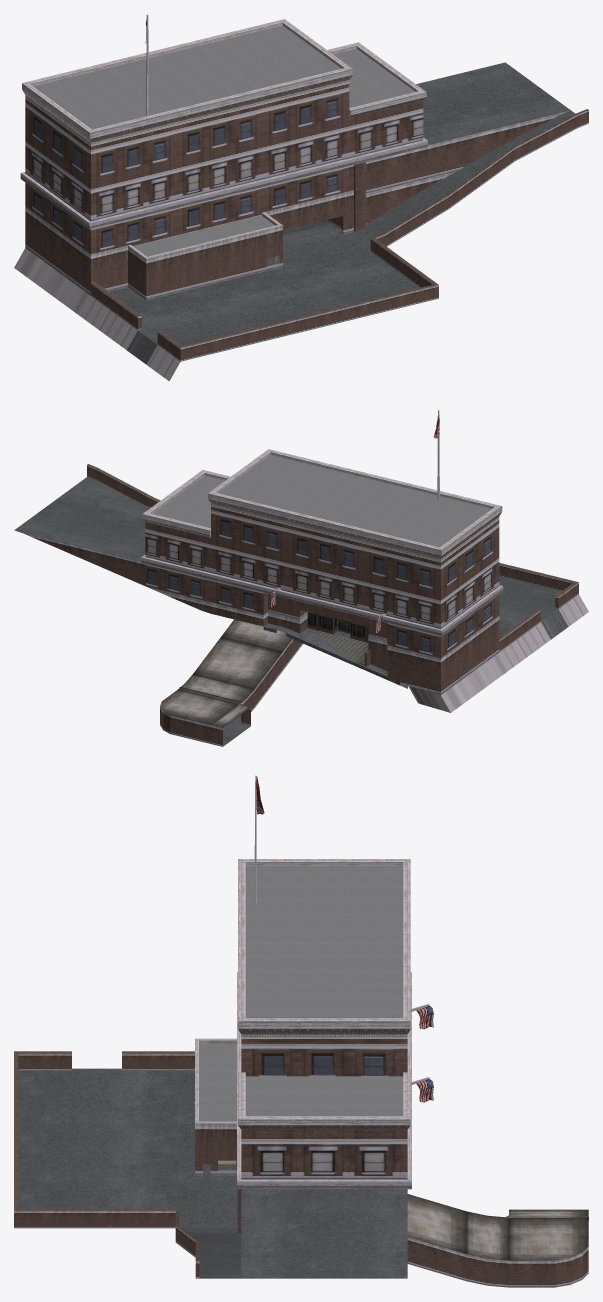
The model's file is copshop_sfe.obj.
The picture shows the model from 3 angles, top to bottom: view 1: azimuth 30°, elevation 25°; view 2: azimuth 150°, elevation 25°; view 3: azimuth 270°, elevation 25°; orthographic projection. The views are drawn at different scales.
Visible parts, largest first — view 1: copshop_sfe; view 2: copshop_sfe; view 3: copshop_sfe.
Boxes of the visible parts, x1,y1,x2,y2 form: copshop_sfe: (14, 14, 588, 381); copshop_sfe: (14, 410, 588, 746); copshop_sfe: (14, 775, 588, 1287).
Bounding box in the file's own units: 133 × 80.16 × 106.
